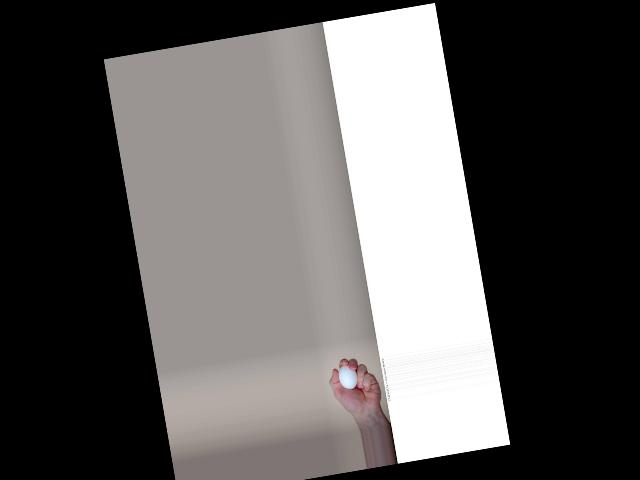egg: (337, 364, 359, 391)
